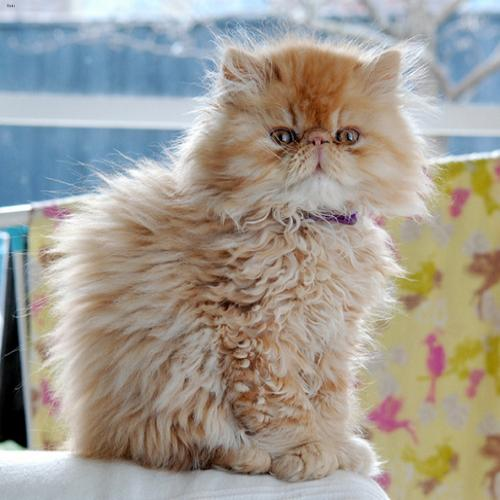persian: (203, 28, 422, 233)
